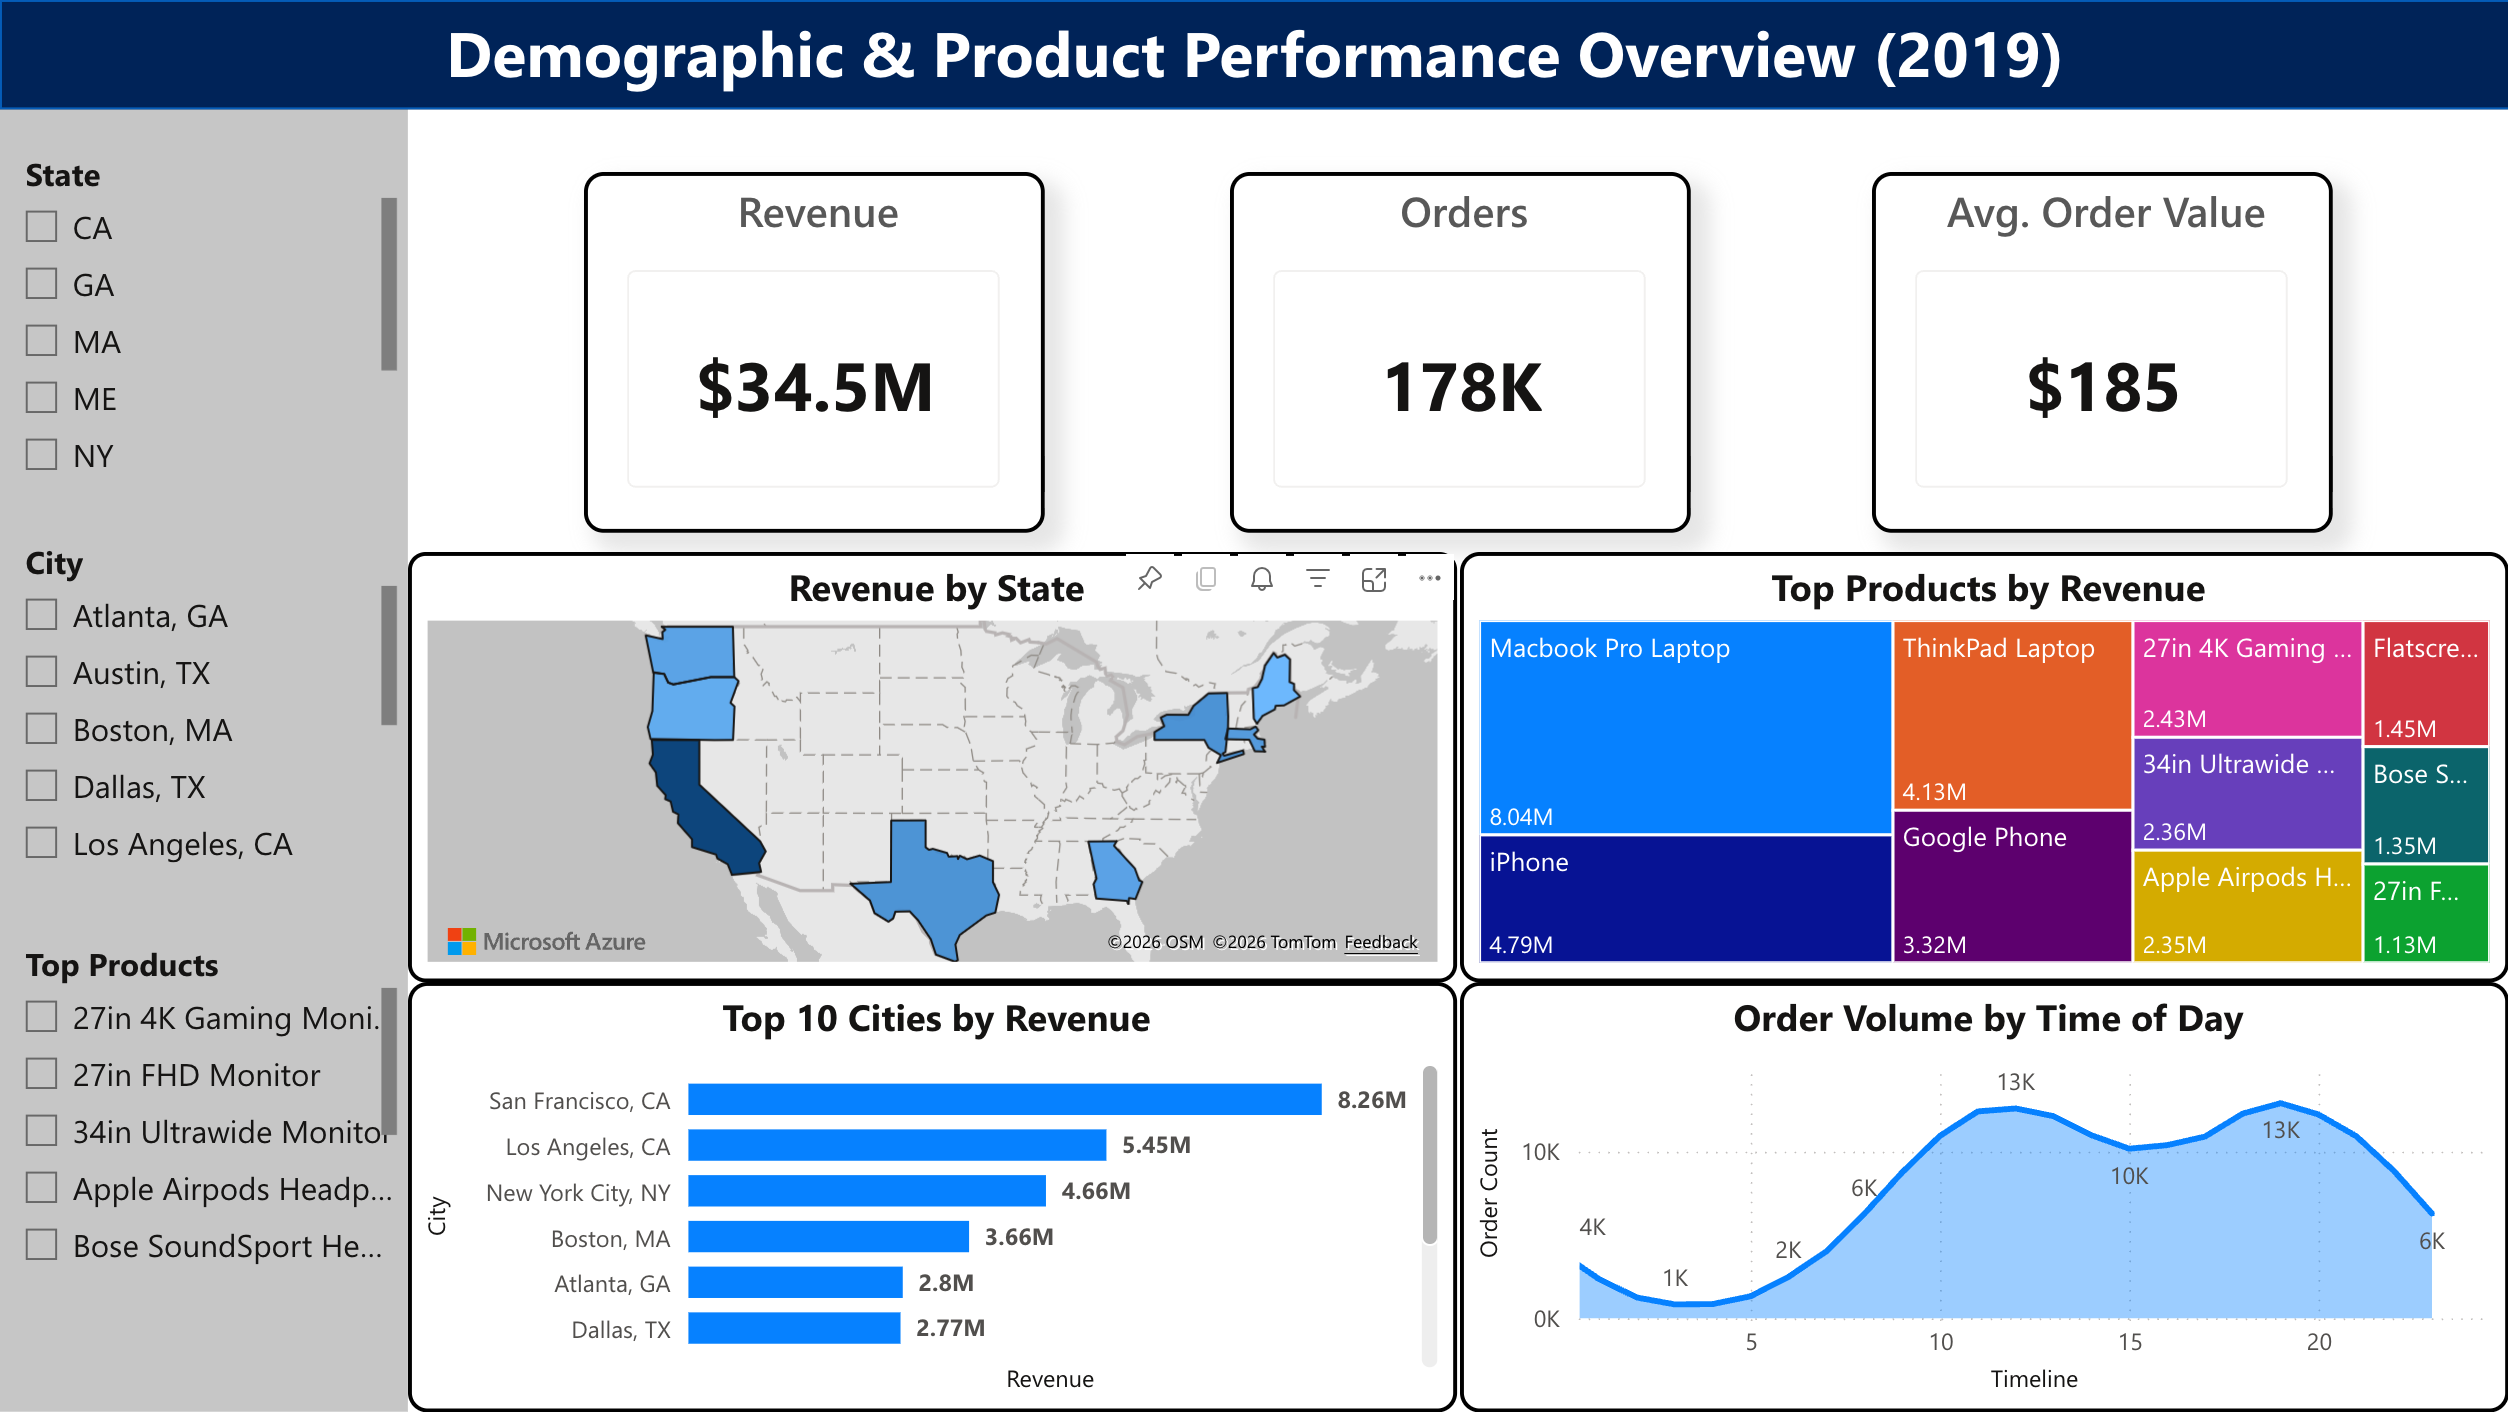

The dashboard page shown, as its layout file describes it:
{"tool":"powerbi","page":{"name":"Product Performance","canvas":[1280,720],"ordinal":1},"visuals":[{"type":"cardVisual","title":"Revenue","fields":{"Data":["Sum(Total Revenue.total_revenue)"]},"box":[297.8,87.8,234.9,183.9],"z":0},{"type":"cardVisual","title":"Orders","fields":{"Data":["Sum(Total Orders.total_orders)"]},"box":[627.5,87.8,234.9,183.9],"z":1},{"type":"cardVisual","title":"Avg. Order Value","fields":{"Data":["Sum(Average Order Value.avg_order_value)"]},"box":[955,87.8,234.9,183.9],"z":2},{"type":"azureMap","title":"Revenue by State","fields":{"Category":["Revenue by State.state"]},"box":[207.6,281.1,535,219.5],"z":3},{"type":"clusteredBarChart","title":"Top 10 Cities by Revenue","fields":{"Category":["Revenue by City.city_state"],"Y":["Sum(Revenue by City.revenue)"]},"box":[207.6,500.6,535,219.5],"z":4},{"type":"treemap","title":"Top Products by Revenue","fields":{"Group":["Top Products by Revenue.product"],"Values":["Sum(Top Products by Revenue.revenue)"]},"box":[745,281.1,535,219.5],"z":5},{"type":"areaChart","title":"Order Volume by Time of Day","fields":{"Y":["Sum(Order Volume by Time of Day.total_orders)"],"Category":["Order Volume by Time of Day.hour"]},"box":[745,500.6,535,219.5],"z":6},{"type":"shape","box":[0,48,208,672],"z":7},{"type":"shape","title":"Pr","box":[0,0,1280,55.8],"z":8},{"type":"textbox","box":[0,0,1280,55.8],"z":9},{"type":"slicer","fields":{"Values":["Revenue by State.state"]},"box":[0,72.4,207.6,176.8],"z":10},{"type":"slicer","fields":{"Values":["Top Products by Revenue.product"]},"box":[0,475.7,207.6,181.5],"z":11},{"type":"slicer","fields":{"Values":["Revenue by City.city_state"]},"box":[0,270.5,207.6,177.9],"z":12}]}

Visuals, with their boxes in screenshot pixels (x1, y1, x2, y2), scaled from the page's 1280x720 canvas onto the 2508x1414 screenshot:
"Revenue" cardVisual: [584,172,1044,534]
"Orders" cardVisual: [1230,172,1690,534]
"Avg. Order Value" cardVisual: [1871,172,2331,534]
"Revenue by State" azureMap: [407,552,1455,983]
"Top 10 Cities by Revenue" clusteredBarChart: [407,983,1455,1413]
"Top Products by Revenue" treemap: [1460,552,2507,983]
"Order Volume by Time of Day" areaChart: [1460,983,2507,1413]
shape: [0,94,408,1413]
"Pr" shape: [0,0,2507,110]
textbox: [0,0,2507,110]
slicer - Revenue by State.state: [0,142,407,489]
slicer - Top Products by Revenue.product: [0,934,407,1291]
slicer - Revenue by City.city_state: [0,531,407,881]
